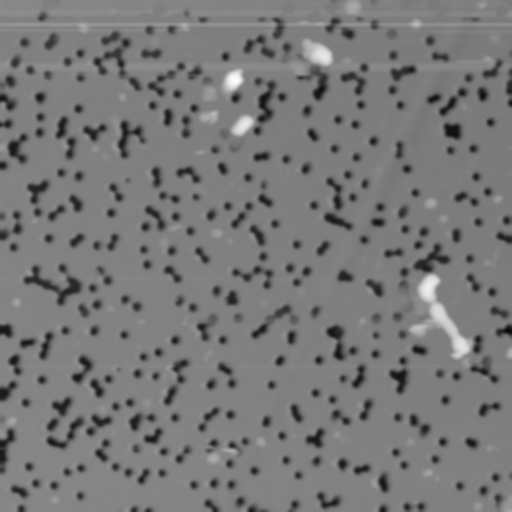Hole: (41, 344, 221, 448), (1, 17, 63, 256), (59, 176, 135, 252), (234, 184, 282, 294), (389, 394, 502, 433), (298, 172, 364, 235), (417, 68, 479, 127), (324, 359, 376, 425), (210, 351, 292, 392), (378, 45, 427, 113), (144, 55, 189, 129), (50, 99, 86, 186), (25, 258, 90, 306), (99, 454, 181, 491), (397, 229, 470, 270), (92, 25, 142, 84), (1, 330, 38, 408), (241, 299, 299, 347), (276, 382, 320, 444), (426, 110, 479, 159), (1, 454, 45, 511), (216, 27, 278, 65), (113, 106, 150, 164), (255, 72, 282, 145), (277, 254, 327, 290), (341, 54, 373, 109), (146, 162, 203, 192), (278, 446, 320, 486), (424, 433, 478, 463), (318, 319, 351, 364), (63, 44, 90, 95), (50, 457, 90, 491), (448, 470, 504, 494), (370, 200, 413, 227), (460, 165, 493, 196), (169, 290, 208, 316), (309, 487, 355, 509), (136, 199, 165, 232), (157, 190, 188, 219), (159, 256, 191, 284), (389, 127, 416, 160), (389, 363, 414, 396), (371, 309, 387, 360), (195, 307, 219, 341), (87, 263, 114, 292), (372, 498, 432, 511), (77, 118, 107, 144), (490, 210, 511, 247), (397, 341, 429, 365), (469, 358, 500, 380), (429, 367, 463, 387), (37, 327, 56, 361), (375, 466, 397, 494), (451, 188, 479, 210), (190, 241, 215, 265), (470, 85, 499, 105), (120, 291, 146, 313), (135, 244, 153, 274), (304, 428, 326, 451), (429, 42, 455, 61), (207, 282, 228, 303), (353, 458, 376, 477), (369, 272, 385, 299), (77, 298, 101, 316), (335, 269, 359, 286), (464, 272, 481, 295), (380, 246, 406, 261), (250, 148, 275, 163), (168, 328, 188, 346), (490, 303, 510, 321), (124, 502, 163, 511), (140, 45, 165, 59), (202, 497, 226, 511), (299, 99, 317, 117), (186, 61, 203, 80), (312, 241, 334, 255), (330, 111, 346, 130), (86, 319, 102, 337), (305, 123, 320, 142), (216, 159, 231, 178), (184, 98, 199, 117), (166, 240, 182, 257), (349, 115, 364, 132), (233, 492, 250, 507), (493, 324, 511, 338), (507, 52, 511, 115), (219, 406, 238, 419), (204, 204, 219, 220), (280, 151, 294, 168), (258, 413, 275, 427), (300, 160, 315, 175), (207, 474, 222, 489), (336, 454, 349, 471), (176, 123, 193, 136), (486, 110, 497, 130), (186, 221, 198, 239), (72, 491, 90, 503), (329, 139, 341, 155), (400, 163, 416, 175), (369, 134, 380, 151), (286, 498, 304, 508), (60, 323, 72, 338), (223, 198, 234, 214), (187, 477, 199, 491), (249, 463, 261, 476), (399, 459, 411, 472), (485, 286, 499, 297), (350, 147, 362, 159), (242, 171, 255, 182), (412, 184, 422, 198), (391, 312, 405, 322), (357, 235, 371, 245), (226, 479, 239, 489), (240, 433, 250, 446), (120, 328, 130, 340), (293, 237, 303, 249), (144, 24, 158, 32), (389, 448, 402, 456), (225, 459, 235, 468), (193, 191, 200, 203), (475, 219, 485, 225), (170, 22, 176, 31)
Particle: (300, 34, 336, 66), (415, 270, 443, 303), (230, 113, 256, 138), (199, 108, 221, 125), (341, 1, 364, 16), (205, 450, 222, 465), (422, 195, 439, 209), (491, 193, 506, 206), (211, 223, 223, 239), (78, 19, 89, 36), (9, 295, 21, 310), (256, 435, 269, 448), (410, 16, 423, 29), (421, 466, 434, 478), (472, 499, 485, 511), (436, 213, 451, 223), (118, 89, 128, 102), (6, 416, 19, 426), (358, 314, 369, 325), (50, 494, 60, 505), (405, 436, 415, 446), (136, 316, 147, 325), (227, 235, 235, 247), (436, 472, 443, 484), (483, 258, 491, 268), (483, 54, 493, 62), (333, 429, 341, 437), (108, 304, 116, 312), (340, 435, 350, 441), (487, 443, 493, 452), (92, 146, 100, 152), (494, 446, 500, 451)
Smear: (415, 297, 445, 359), (221, 66, 247, 97), (409, 320, 431, 338), (201, 84, 221, 99), (164, 222, 184, 234), (222, 446, 240, 457), (178, 20, 191, 33), (193, 146, 207, 158)
